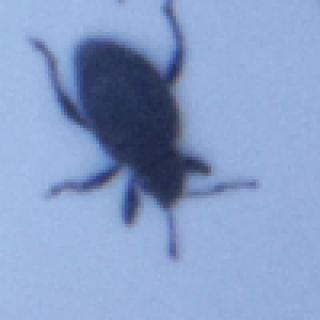bvw: (29, 1, 259, 261)
